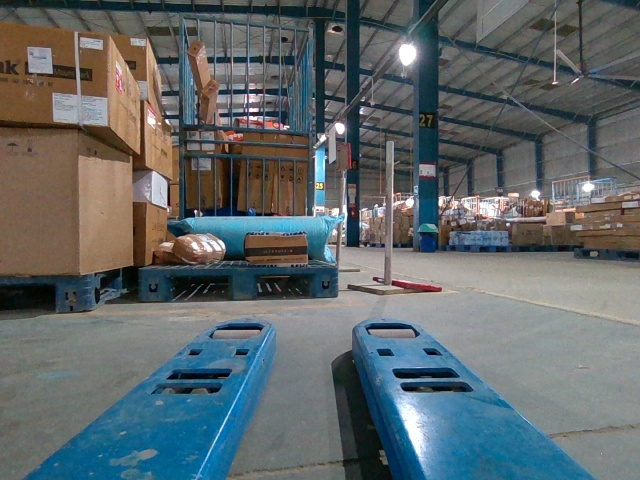block: (54, 274, 92, 309), (136, 268, 171, 302), (307, 266, 341, 297), (228, 267, 256, 299)
front: (136, 266, 341, 301)
hole pallet: (170, 276, 229, 303), (258, 274, 309, 298)
